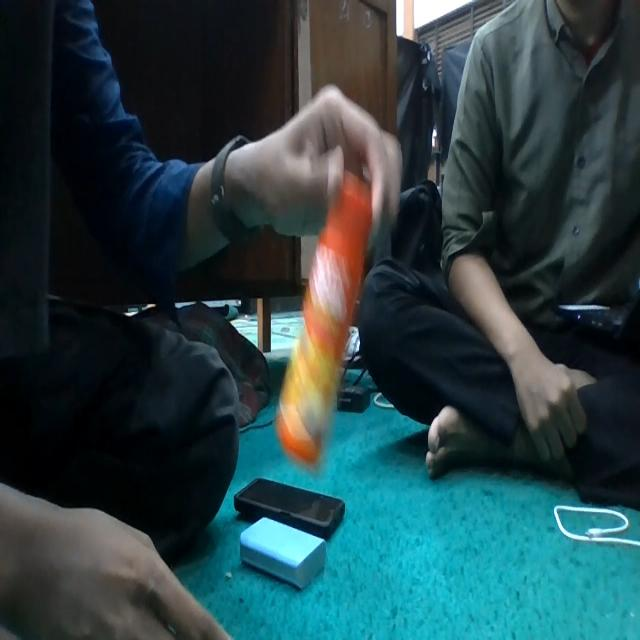Boncabe: (276, 173, 372, 470)
Powerbank: (240, 517, 326, 589)
